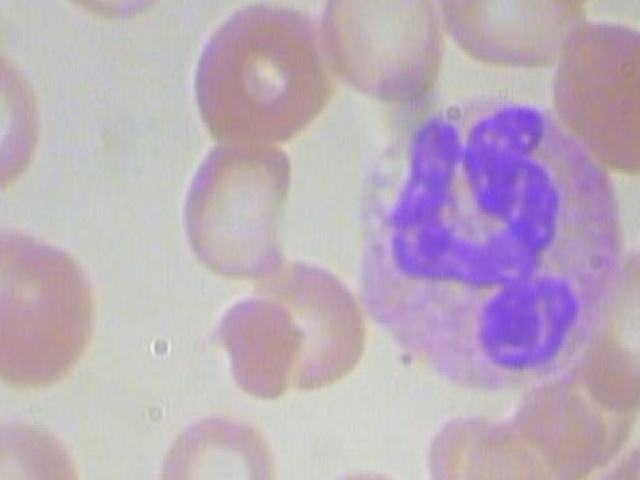RBC: (184, 0, 341, 150), (168, 119, 293, 281), (246, 239, 371, 401), (537, 15, 640, 175), (314, 0, 448, 100), (428, 0, 589, 82), (145, 401, 287, 480), (207, 292, 302, 408), (0, 36, 49, 196), (0, 401, 83, 480), (44, 0, 185, 35), (292, 450, 426, 480), (633, 427, 640, 480)
WBC: (354, 89, 631, 392)
